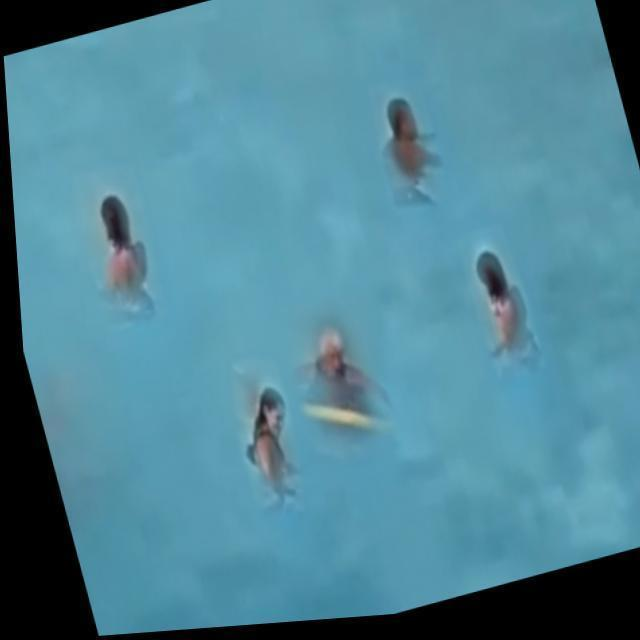swimming: (437, 240, 566, 397), (278, 309, 399, 434), (228, 382, 331, 527), (351, 77, 460, 209), (73, 177, 162, 324)
